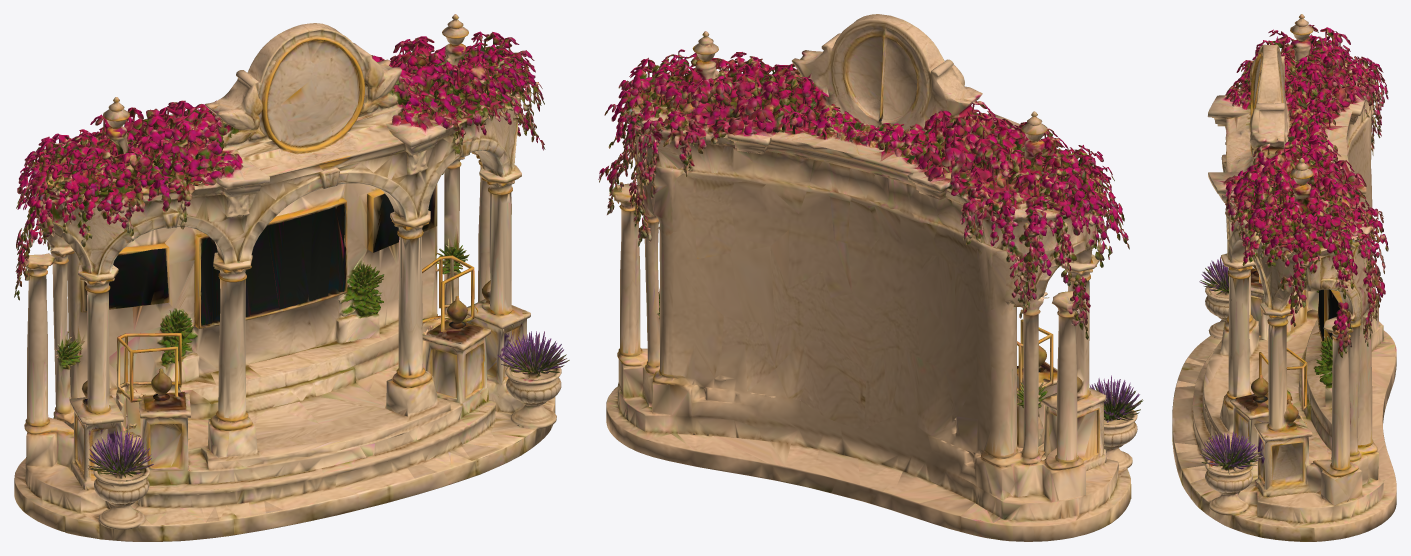
File: casa-marca.glb
3 views of the same model, side by side, from view 1: azimuth 30°, elevation 25°; view 2: azimuth 150°, elevation 25°; view 3: azimuth 270°, elevation 25° (orthographic). The views are drawn at different scales.
Visible parts, largest first — view 1: Mesh_0; view 2: Mesh_0; view 3: Mesh_0.
Boxes of the visible parts, x1,y1,x2,y2 form: Mesh_0: (14, 14, 569, 541); Mesh_0: (598, 14, 1143, 541); Mesh_0: (1172, 14, 1396, 541).
Bounding box in the file's own units: 1.89 × 1.53 × 0.8115.
1 material, 1 textured.
